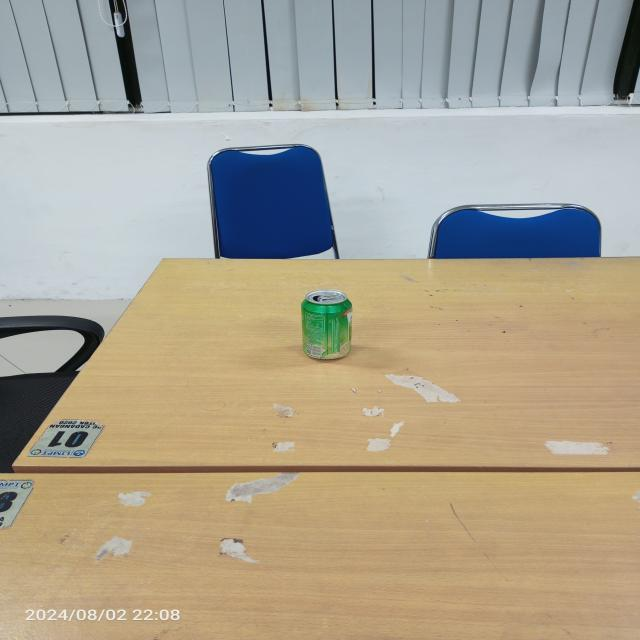ademsarikaleng: (300, 288, 354, 361)
